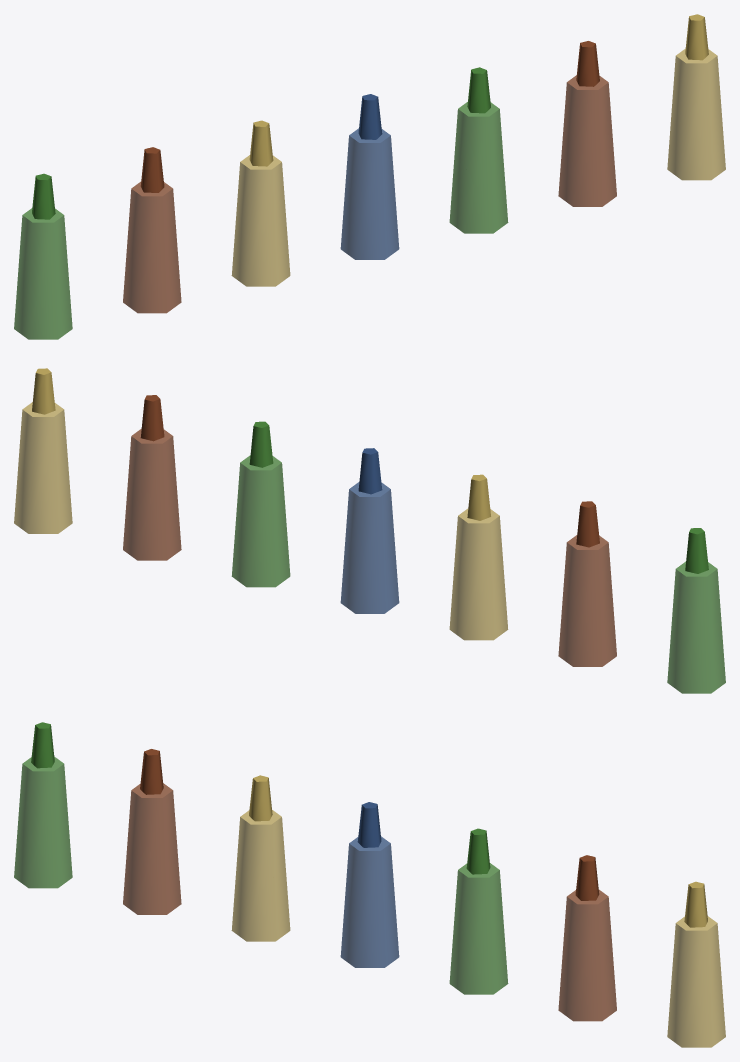
The model's file is f_bottles.glb.
3 renders of one model, top to bottom at view 1: azimuth 30°, elevation 25°; view 2: azimuth 150°, elevation 25°; view 3: azimuth 330°, elevation 25°, orthographic.
Visible parts, largest first — view 1: bottles; view 2: bottles; view 3: bottles.
Part boxes in pixels (x1,y1,x2,y2): bottles: [14, 14, 725, 339]; bottles: [14, 368, 725, 693]; bottles: [14, 722, 725, 1047].
Bounding box in the file's own units: 1.92 × 0.4 × 0.14.
